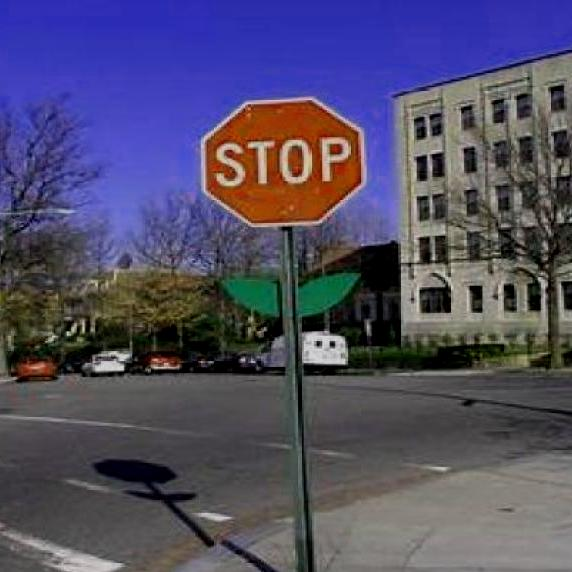stop_sign: (198, 99, 367, 224)
